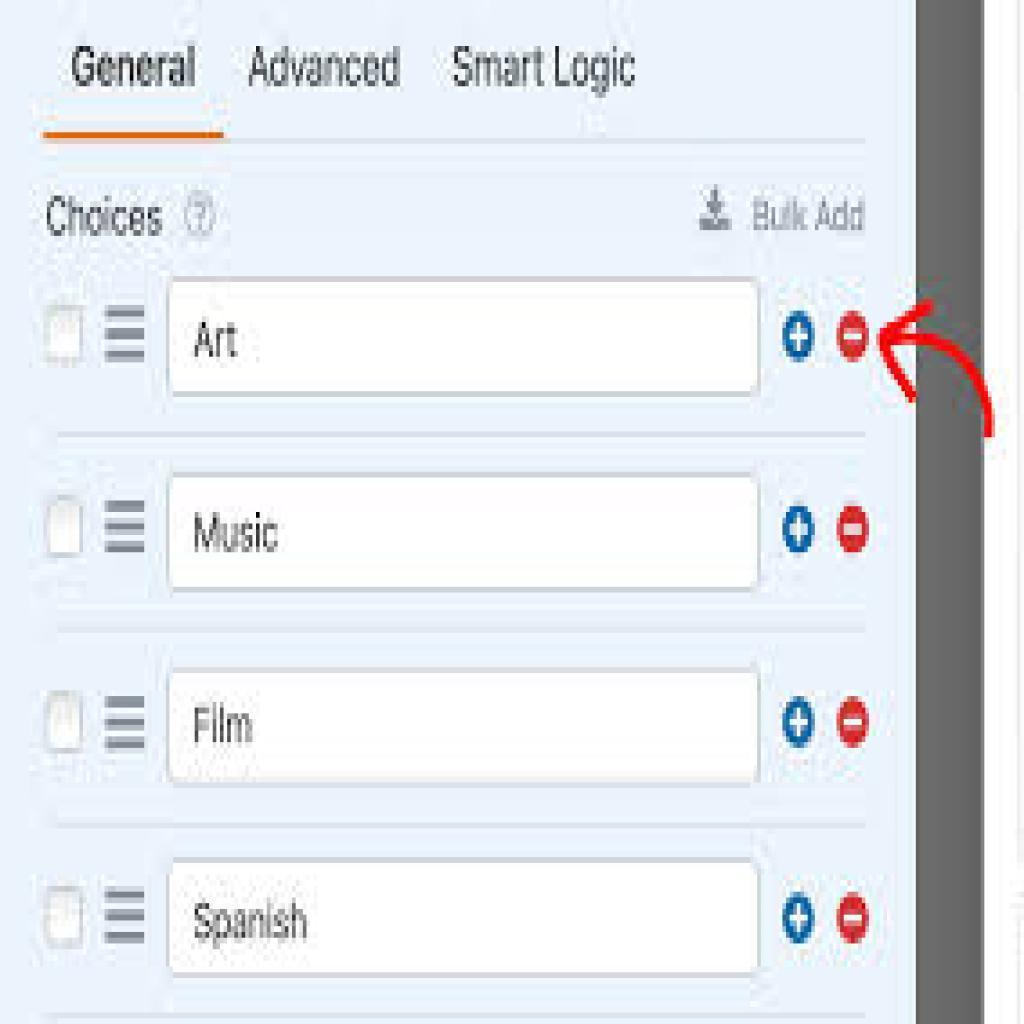checkbox: (41, 889, 85, 948), (45, 694, 86, 754), (46, 496, 84, 556), (47, 305, 85, 363)
icon: (100, 298, 157, 378), (101, 690, 153, 764), (100, 494, 154, 565), (101, 884, 146, 950), (835, 691, 876, 756), (832, 887, 874, 950), (780, 890, 822, 949), (695, 182, 739, 238), (781, 692, 821, 753), (781, 501, 820, 558), (782, 310, 819, 370), (835, 310, 874, 366), (835, 505, 873, 555)
input: (169, 855, 763, 980), (165, 665, 763, 785), (170, 280, 763, 395), (170, 473, 763, 586)
